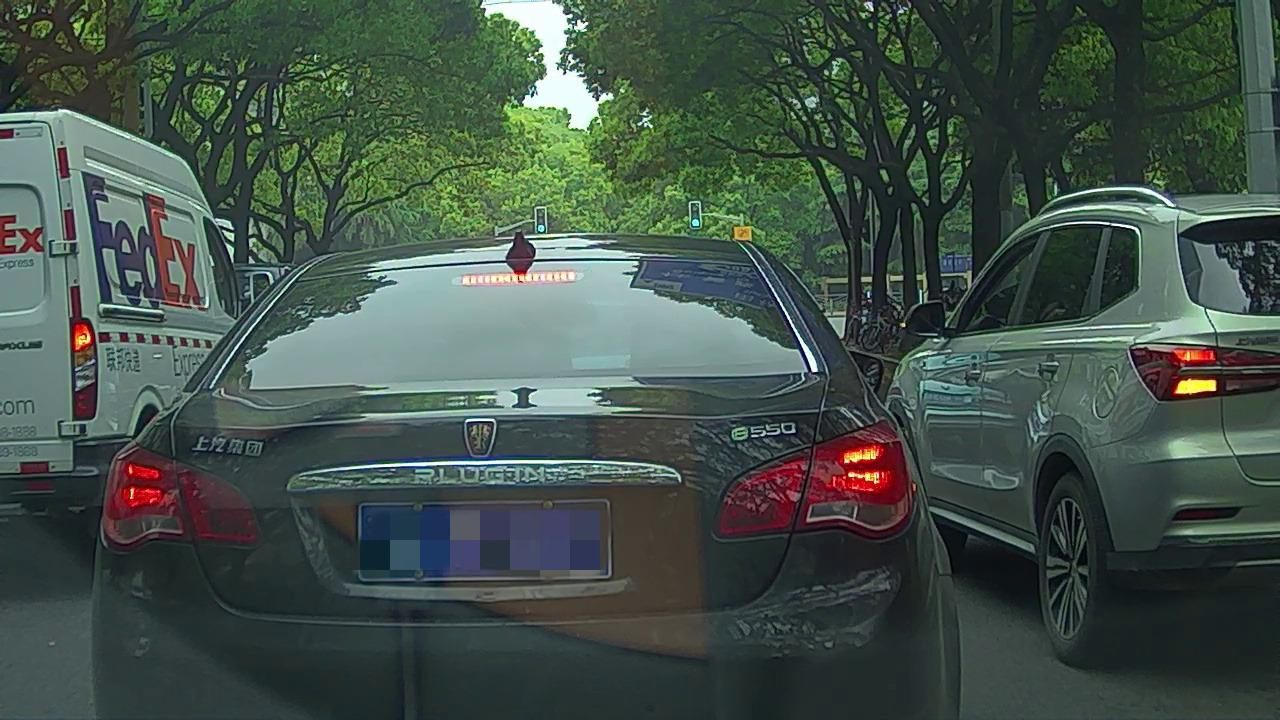traffic_light: (535, 206, 546, 233), (691, 201, 700, 227)
